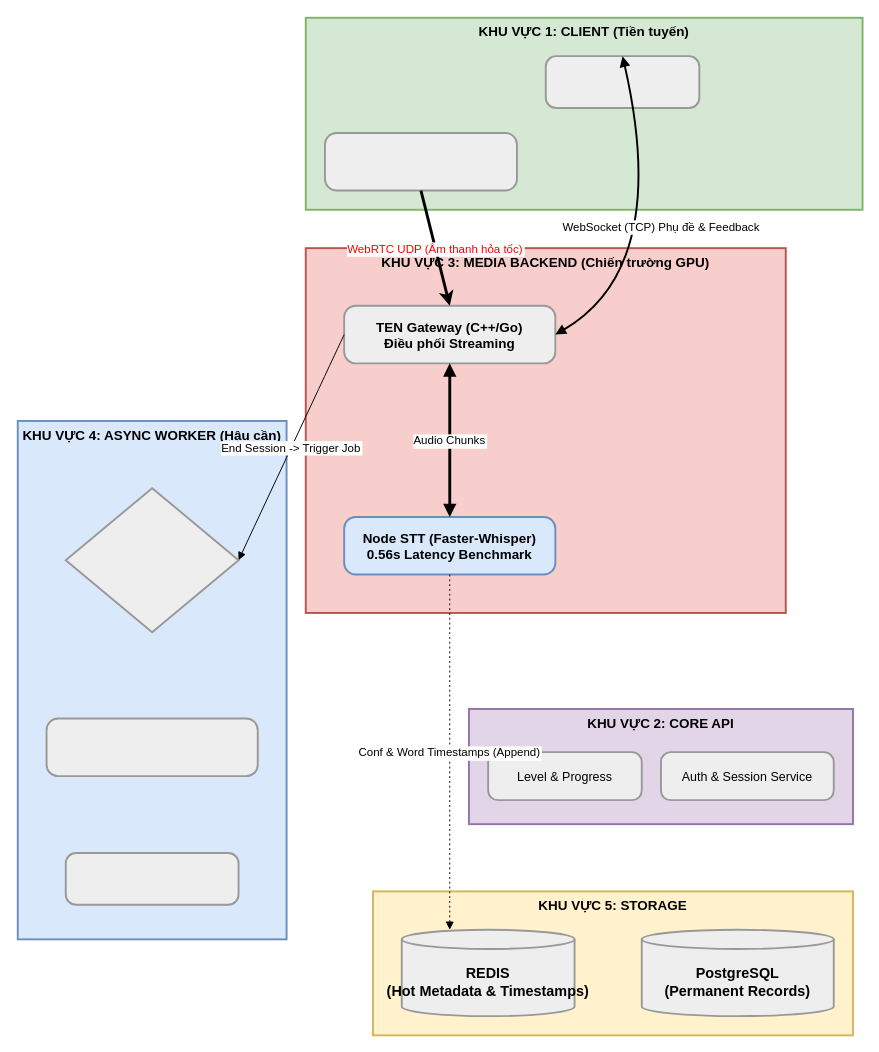
The diagram is 879 pixels wide and 1052 high, and some of its shapes have lost their labels. The centre of each missing label's shape, as x and y in pixels:
"App/Web L.U.V.E" goes at point 622,81.
"External LLM API (Gemini/GPT)" goes at point 151,878.
"Message Queue (RabbitMQ/Redis)" goes at point 151,560.
"VAD Engine (Client-side) Cảm biến tiếng người" goes at point 420,161.
"Worker: Feedback Engine Phân tích Phoneme/Conf" goes at point 151,747.
